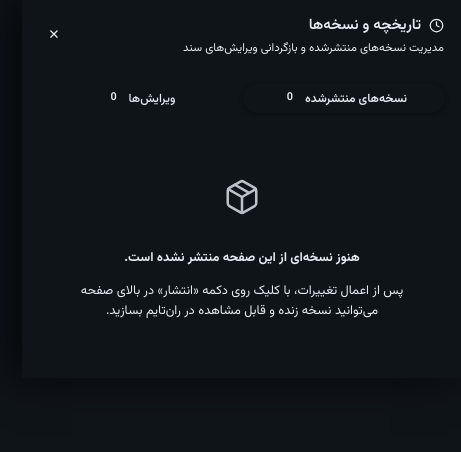
it: VersionsPanel (History Drawer) › renders published versions timeline and activates an archived version
The width and height of the screenshot is (461, 452).
Later steps or results of the test are not shown.
Expected: the text "تاریخچه و نسخه‌ها" is shown, [309, 14, 421, 37]
Step 1. Click the button named "بستن تاریخچه" → (54, 36), box [40, 22, 68, 50]
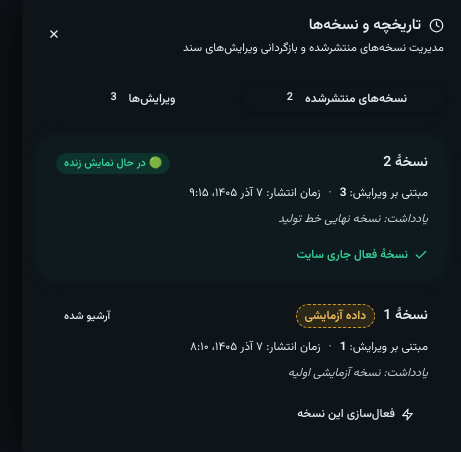
Now the text "نسخهٔ 2" is shown, box [383, 152, 428, 174]
Now the text "🟢 در حال نمایش زنده" is shown, box [56, 152, 170, 174]
Now the text "نسخهٔ 1" is shown, box [383, 305, 428, 327]
